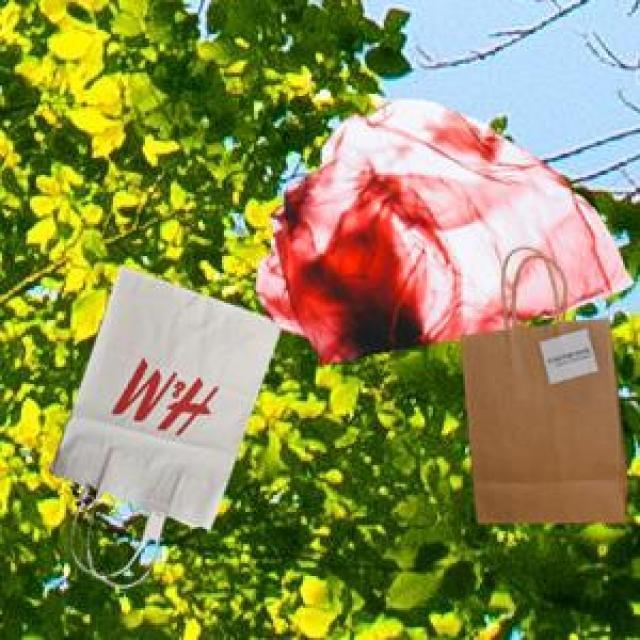paper: (45, 262, 275, 550), (457, 269, 623, 518)
